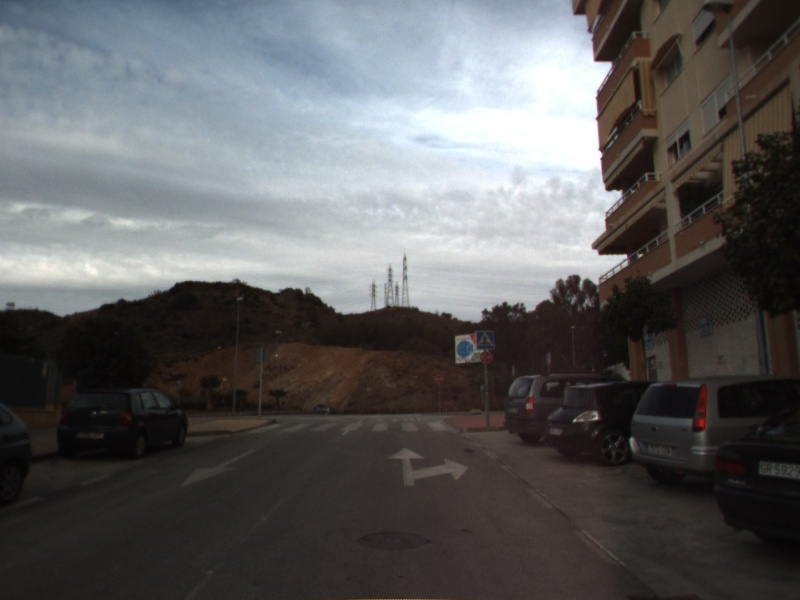STRAIGHT_RIGHT: (385, 445, 471, 489)
